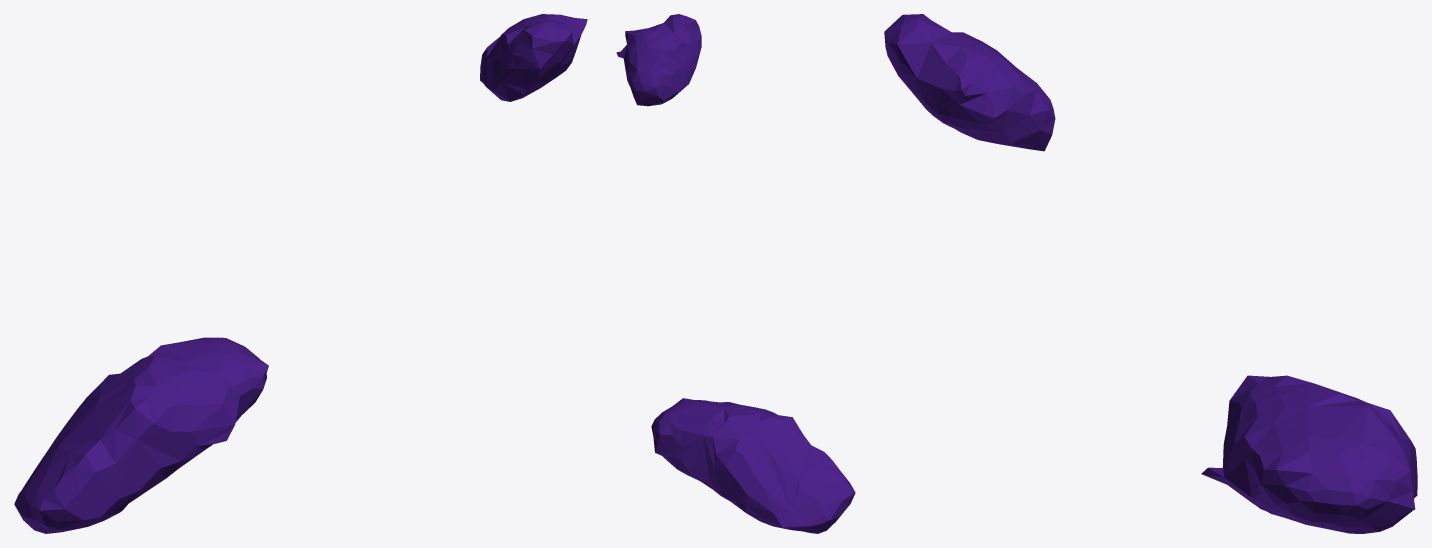
The model's file is Model_10325_LH__Zona_incerta_(ZI).obj.
3 views of the same model, side by side, from view 1: azimuth 30°, elevation 25°; view 2: azimuth 150°, elevation 25°; view 3: azimuth 270°, elevation 25° (orthographic). The views are drawn at different scales.
Bounding box in the file's own units: 2.14 × 2.5 × 1.7.
